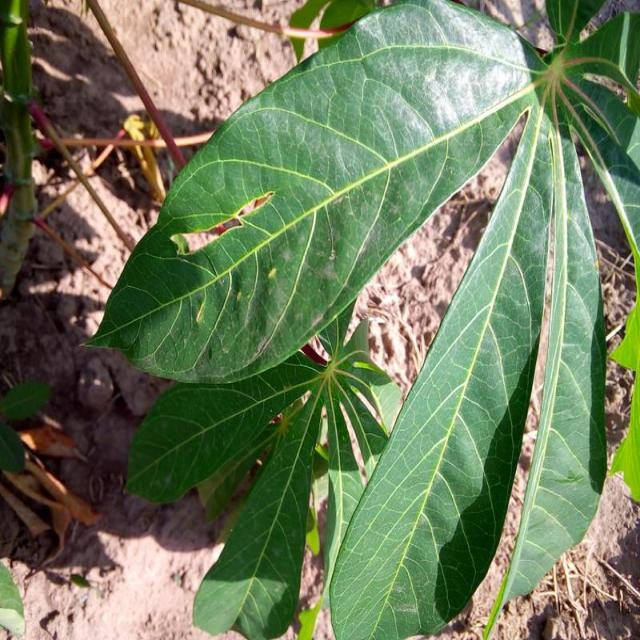cassava leaf: (80, 0, 544, 385), (326, 97, 554, 638)
